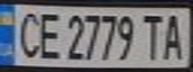2: (60, 10, 84, 61)
7: (81, 10, 103, 61), (100, 11, 121, 61)
9: (115, 11, 139, 62)
A: (157, 10, 190, 61)
C: (9, 8, 42, 60)
E: (33, 8, 63, 61)
T: (136, 11, 166, 62)
